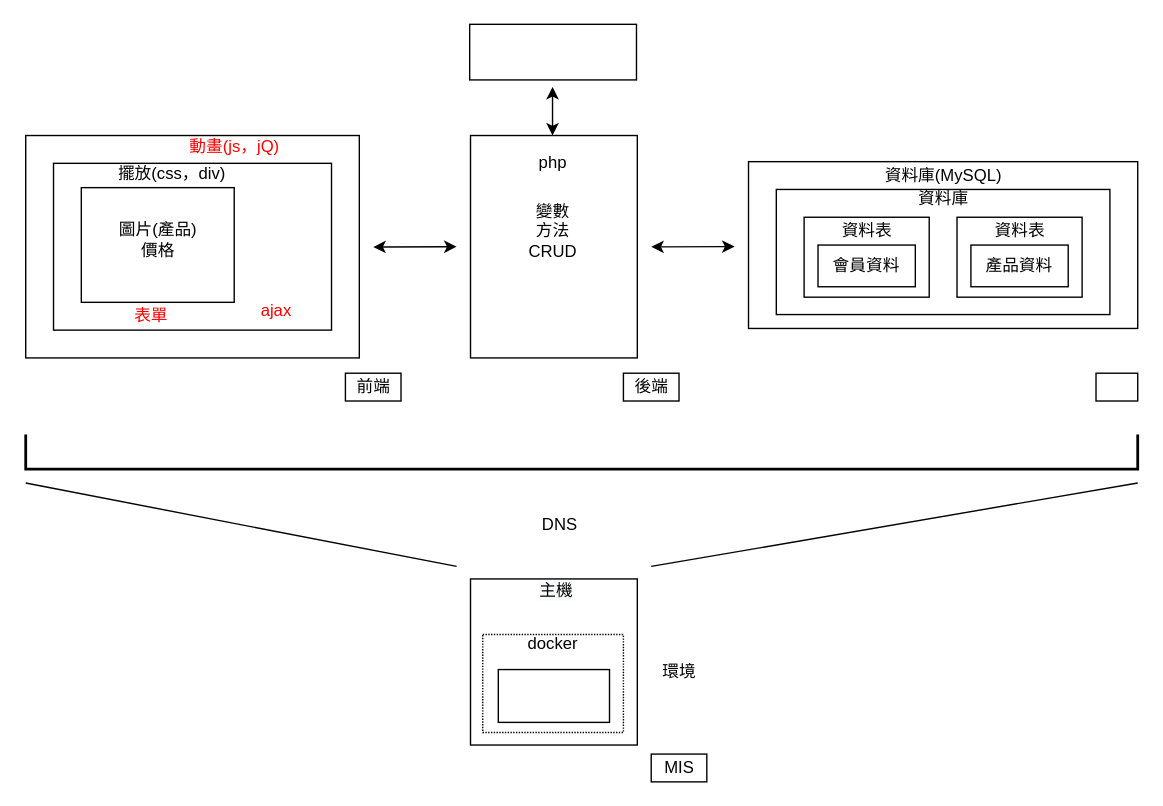
Some shapes in this 1163 by 806 pixel diagram are drawn without their labels. The shapes that lost their labels are listed below. From the top down, each one's box as (x1, y1, x2, y2) in pixels, then its label:
(468, 23, 636, 80): 第三方(金流)
(1095, 372, 1138, 401): DB
(497, 668, 610, 722): apach2
